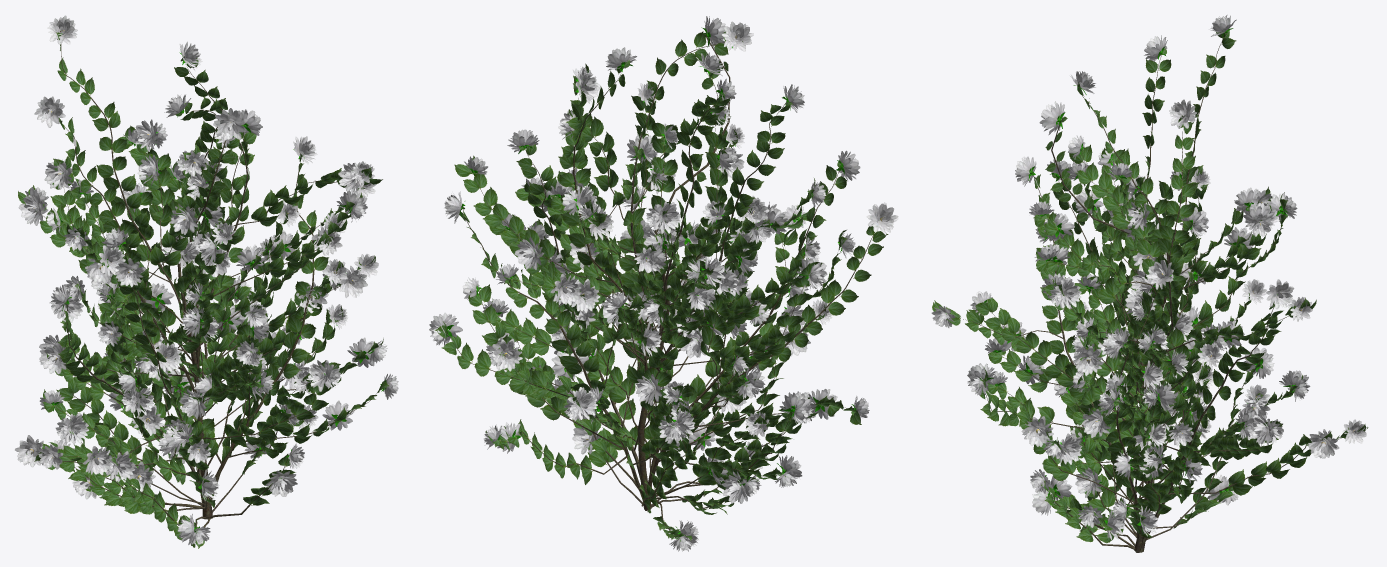
File: dwarf_snowflake_mock_orange_flowers_spring.glb
The picture shows the model from 3 angles, left to right: view 1: azimuth 30°, elevation 25°; view 2: azimuth 150°, elevation 25°; view 3: azimuth 270°, elevation 25°; orthographic projection. The views are drawn at different scales.
Visible parts, largest first — view 1: Object_10, Object_7, Object_5; view 2: Object_10, Object_7, Object_5; view 3: Object_10, Object_7, Object_5.
Boxes of the visible parts, <box> form: Object_10: <box>18,32,389,548</box>; Object_7: <box>15,15,398,545</box>; Object_5: <box>42,44,376,527</box>; Object_10: <box>435,31,888,542</box>; Object_7: <box>429,16,898,551</box>; Object_5: <box>448,36,873,534</box>; Object_10: <box>932,30,1368,543</box>; Object_7: <box>931,15,1366,539</box>; Object_5: <box>963,34,1341,552</box>.
Size of the model in its own units: 1.91 by 2.44 by 2.
Materials: 3 (3 with a texture image).
